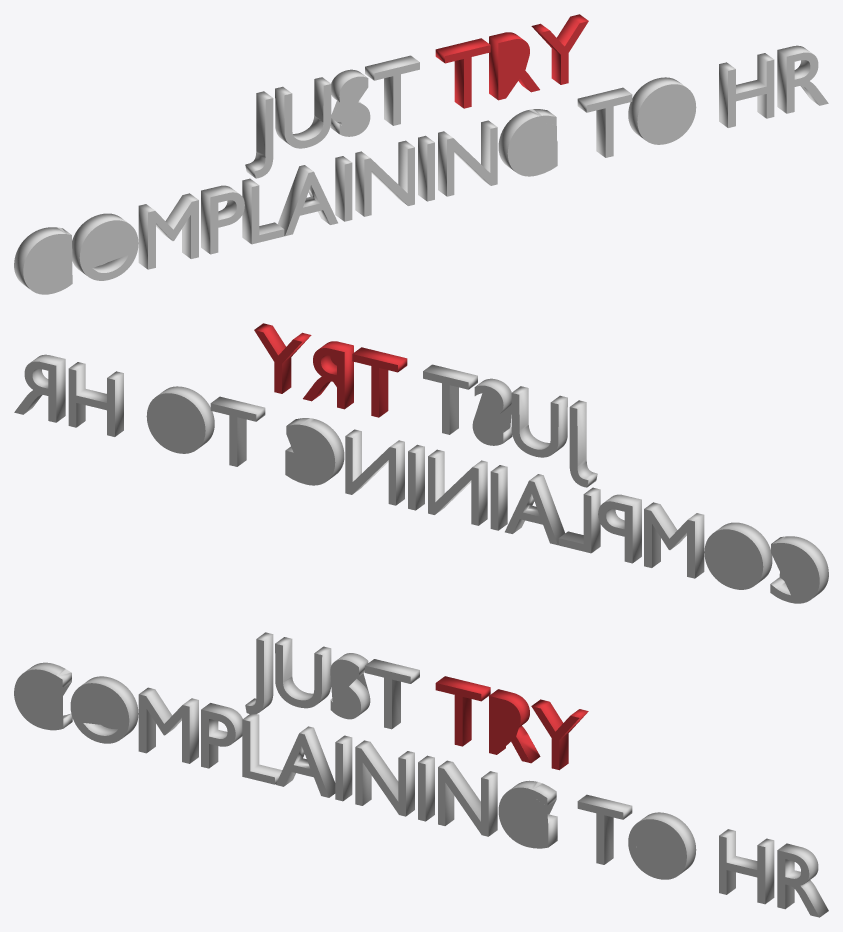
File: JustTryComplainingtoHR.fbx
3 renders of one model, top to bottom at view 1: azimuth 30°, elevation 25°; view 2: azimuth 150°, elevation 25°; view 3: azimuth 330°, elevation 25°, orthographic.
Visible parts, largest first — view 1: Complaining to HR, Try; view 2: Complaining to HR, Try; view 3: Complaining to HR, Try.
Part boxes in pixels (box(x1,y1,x2,y2)): Complaining to HR: box(14, 45, 828, 294); Try: box(435, 14, 588, 108); Complaining to HR: box(14, 354, 828, 603); Try: box(254, 323, 407, 417); Complaining to HR: box(14, 632, 828, 917); Try: box(435, 676, 588, 770).
Bounding box in the file's own units: 1005 × 170 × 20.
